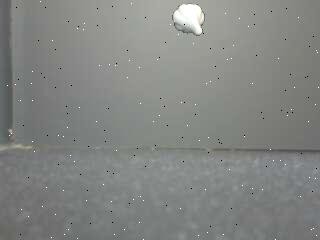Garlic: (171, 1, 206, 36)
